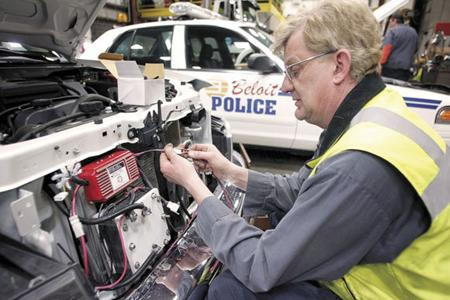person: (158, 2, 450, 300)
